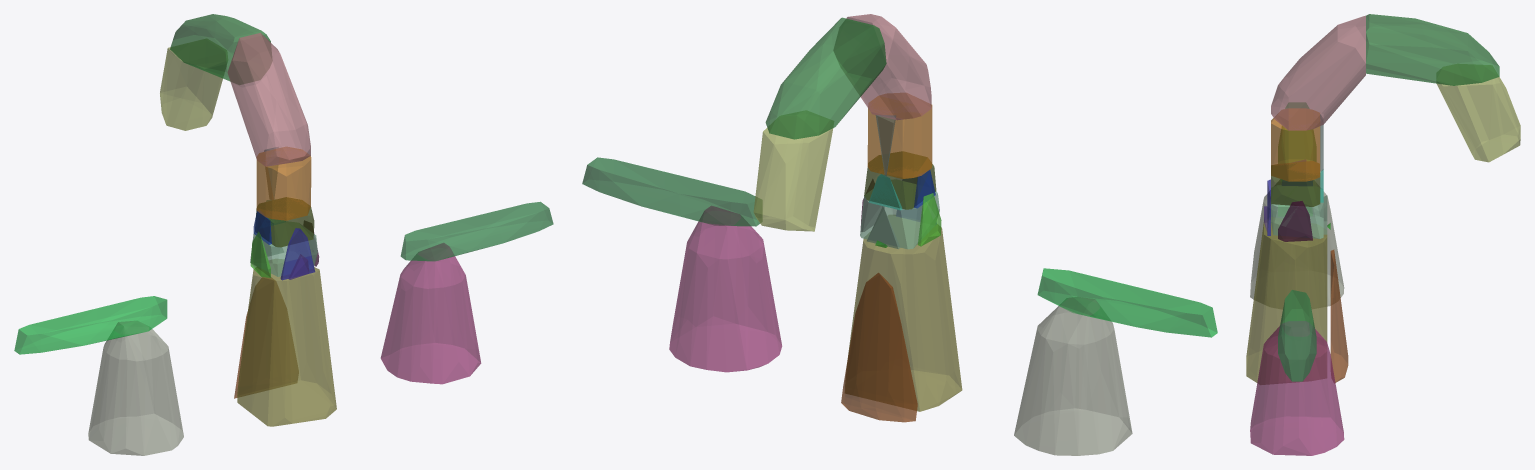
3 views of the same model, side by side, from view 1: azimuth 30°, elevation 25°; view 2: azimuth 150°, elevation 25°; view 3: azimuth 270°, elevation 25° (orthographic). The views are drawn at different scales.
Visible parts, largest first — view 1: Shape_IndexedFaceSet.006, Shape_IndexedFaceSet.007, Shape_IndexedFaceSet, Shape_IndexedFaceSet.004, Shape_IndexedFaceSet.003, Shape_IndexedFaceSet.005, Shape_IndexedFaceSet.001, Shape_IndexedFaceSet.008, Shape_IndexedFaceSet.002, Shape_IndexedFaceSet.011, Shape_IndexedFaceSet.020, Shape_IndexedFaceSet.018 (+2 smaller); view 2: Shape_IndexedFaceSet.006, Shape_IndexedFaceSet.007, Shape_IndexedFaceSet, Shape_IndexedFaceSet.003, Shape_IndexedFaceSet.005, Shape_IndexedFaceSet.002, Shape_IndexedFaceSet.004, Shape_IndexedFaceSet.008, Shape_IndexedFaceSet.001, Shape_IndexedFaceSet.011, Shape_IndexedFaceSet.018, Shape_IndexedFaceSet.020 (+4 smaller); view 3: Shape_IndexedFaceSet.007, Shape_IndexedFaceSet.006, Shape_IndexedFaceSet.003, Shape_IndexedFaceSet.004, Shape_IndexedFaceSet, Shape_IndexedFaceSet.002, Shape_IndexedFaceSet.011, Shape_IndexedFaceSet.008, Shape_IndexedFaceSet.018, Shape_IndexedFaceSet.020, Shape_IndexedFaceSet.005, Shape_IndexedFaceSet.001 (+1 smaller).
Part boxes in pixels (box(x1,y1,x2,y2)): Shape_IndexedFaceSet.006: box(237, 259, 336, 426); Shape_IndexedFaceSet.007: box(380, 243, 481, 384); Shape_IndexedFaceSet: box(88, 321, 183, 455); Shape_IndexedFaceSet.004: box(227, 33, 310, 166); Shape_IndexedFaceSet.003: box(170, 14, 271, 84); Shape_IndexedFaceSet.005: box(234, 277, 298, 398); Shape_IndexedFaceSet.001: box(14, 296, 167, 354); Shape_IndexedFaceSet.008: box(400, 201, 553, 261); Shape_IndexedFaceSet.002: box(160, 39, 227, 130); Shape_IndexedFaceSet.011: box(256, 147, 311, 220); Shape_IndexedFaceSet.020: box(255, 197, 314, 247); Shape_IndexedFaceSet.018: box(250, 222, 317, 276); Shape_IndexedFaceSet.006: box(845, 215, 962, 411); Shape_IndexedFaceSet.007: box(669, 206, 782, 372); Shape_IndexedFaceSet: box(1014, 297, 1132, 455); Shape_IndexedFaceSet.003: box(765, 17, 886, 139); Shape_IndexedFaceSet.005: box(841, 272, 917, 422); Shape_IndexedFaceSet.002: box(753, 111, 833, 231); Shape_IndexedFaceSet.004: box(834, 14, 931, 120); Shape_IndexedFaceSet.008: box(582, 157, 761, 226); Shape_IndexedFaceSet.001: box(1037, 268, 1217, 337); Shape_IndexedFaceSet.011: box(867, 93, 932, 178); Shape_IndexedFaceSet.018: box(860, 180, 939, 249); Shape_IndexedFaceSet.020: box(864, 151, 936, 209); Shape_IndexedFaceSet.007: box(1250, 321, 1344, 455); Shape_IndexedFaceSet.006: box(1246, 217, 1327, 384); Shape_IndexedFaceSet.003: box(1366, 14, 1499, 85); Shape_IndexedFaceSet.004: box(1271, 15, 1365, 130); Shape_IndexedFaceSet: box(1250, 179, 1344, 308); Shape_IndexedFaceSet.002: box(1436, 64, 1520, 162); Shape_IndexedFaceSet.011: box(1271, 108, 1320, 181); Shape_IndexedFaceSet.008: box(1278, 290, 1316, 381); Shape_IndexedFaceSet.018: box(1271, 185, 1323, 238); Shape_IndexedFaceSet.020: box(1271, 161, 1320, 206); Shape_IndexedFaceSet.005: box(1330, 249, 1348, 382); Shape_IndexedFaceSet.001: box(1278, 103, 1315, 180).
Size of the model in its own units: 0.7995 by 0.4926 by 0.3523.
